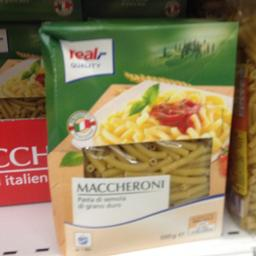pasta: (36, 20, 238, 254)
